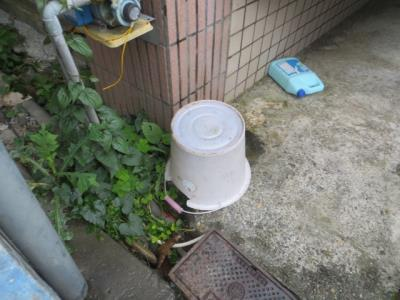bottle: (264, 54, 328, 100)
bucket: (158, 98, 256, 216)
